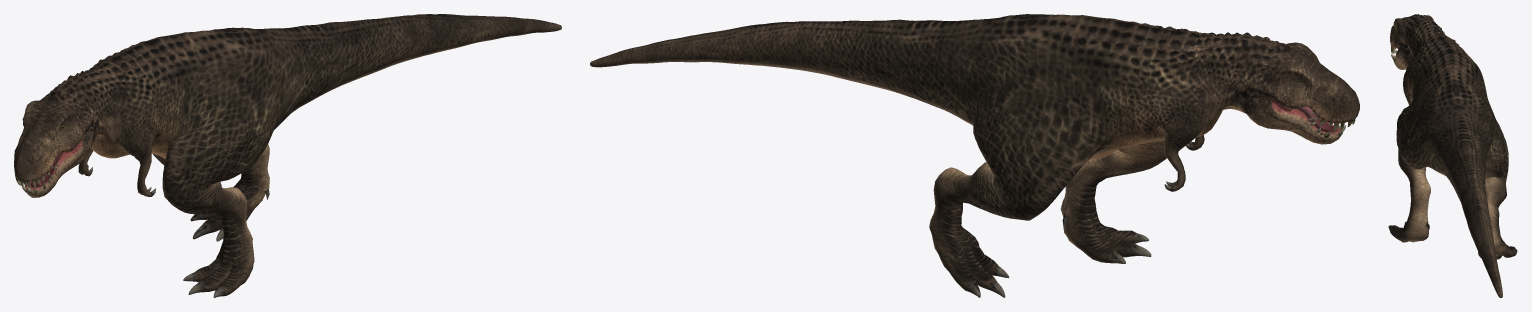
File: bawanglong.obj
The picture shows the model from 3 angles, left to right: view 1: azimuth 30°, elevation 25°; view 2: azimuth 150°, elevation 25°; view 3: azimuth 270°, elevation 25°; orthographic projection. The views are drawn at different scales.
Parts seen in each view (by area): view 1: bawanglong1; view 2: bawanglong1; view 3: bawanglong1.
Boxes of the visible parts, bbox=[...] form: bawanglong1: bbox=[14, 14, 561, 297]; bawanglong1: bbox=[590, 14, 1359, 297]; bawanglong1: bbox=[1388, 14, 1517, 297].
Size of the model in its own units: 100 by 37.48 by 24.82.
3 materials, 3 textured.
